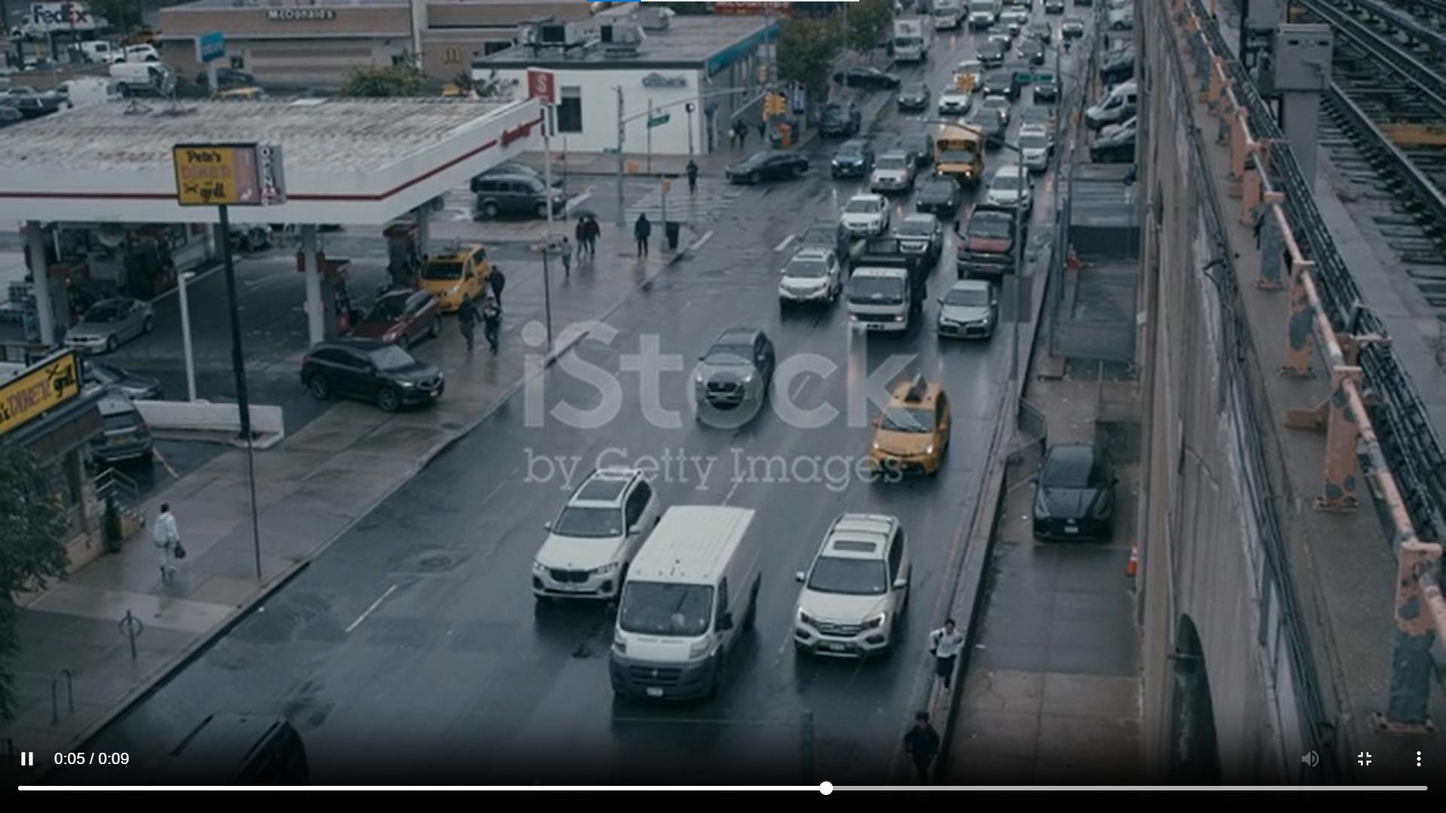bus: (923, 113, 996, 195)
car: (589, 493, 785, 709), (520, 436, 650, 611), (796, 496, 919, 673), (298, 330, 469, 425), (1005, 434, 1127, 557), (689, 317, 791, 424), (871, 366, 951, 493), (339, 282, 456, 363), (59, 290, 170, 363), (80, 381, 156, 484), (406, 243, 507, 314), (770, 234, 852, 320), (466, 171, 571, 234), (716, 141, 817, 202), (942, 262, 1002, 356), (818, 131, 877, 195), (987, 159, 1039, 228), (830, 55, 899, 98), (1086, 74, 1140, 128), (898, 208, 944, 270), (891, 76, 942, 127), (906, 177, 961, 220), (835, 201, 890, 243), (1011, 119, 1053, 174), (1083, 122, 1138, 162), (869, 151, 922, 190), (815, 99, 863, 139), (982, 68, 1020, 108), (1029, 70, 1064, 107), (937, 82, 975, 115), (1016, 36, 1044, 63), (974, 38, 1003, 64), (1058, 15, 1086, 41)
truck: (845, 230, 930, 344), (887, 11, 938, 66)
